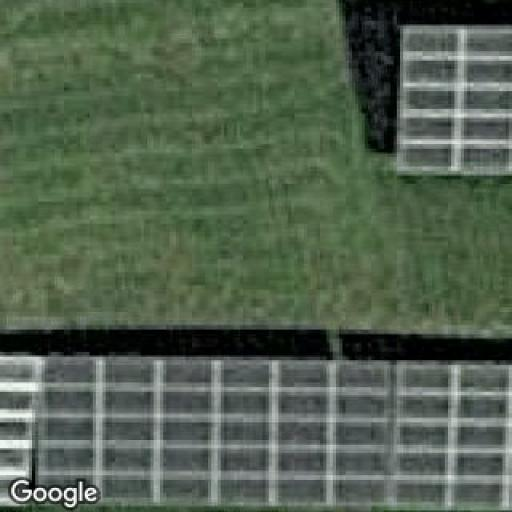solar-panel: (0, 355, 512, 512), (398, 27, 512, 173)
